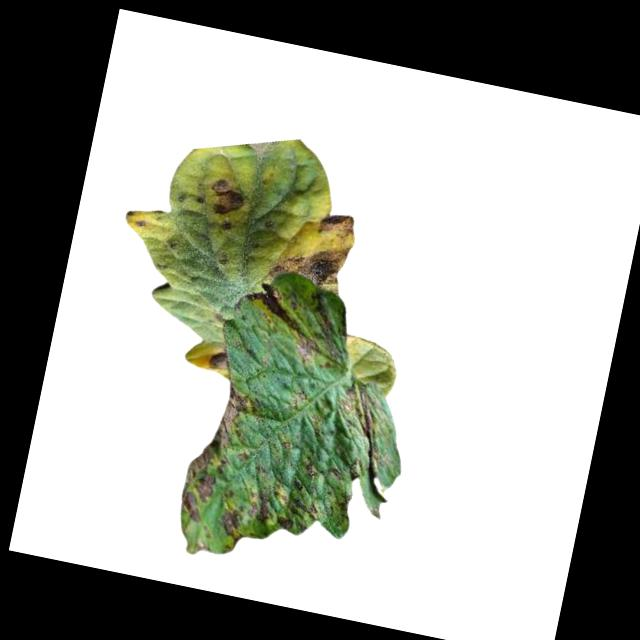Early_blight: (173, 376, 253, 530), (238, 281, 330, 366), (265, 232, 350, 295), (244, 477, 324, 534), (206, 176, 249, 221), (309, 209, 358, 240), (219, 508, 247, 543), (205, 350, 233, 376), (218, 219, 234, 234)
